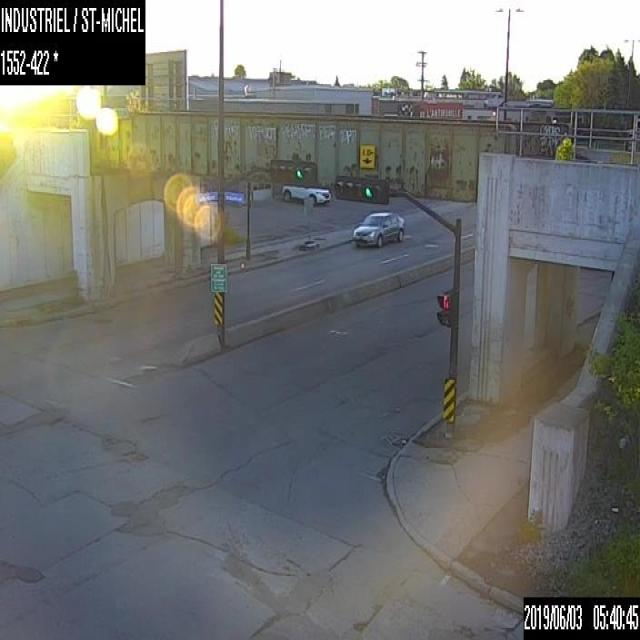vehicle: (352, 209, 404, 247), (281, 183, 330, 203)
